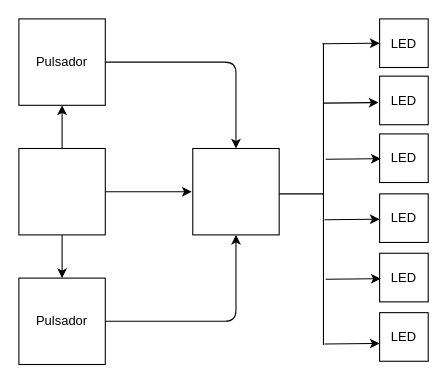
This 447x383 diagram has some shape labels left out. Here are the shapes that lost their labels. From the top down, the centre of each, then its label:
At point 61,191: "VCC = 5V".
At point 235,191: "Arduino (Atmega328P)".
